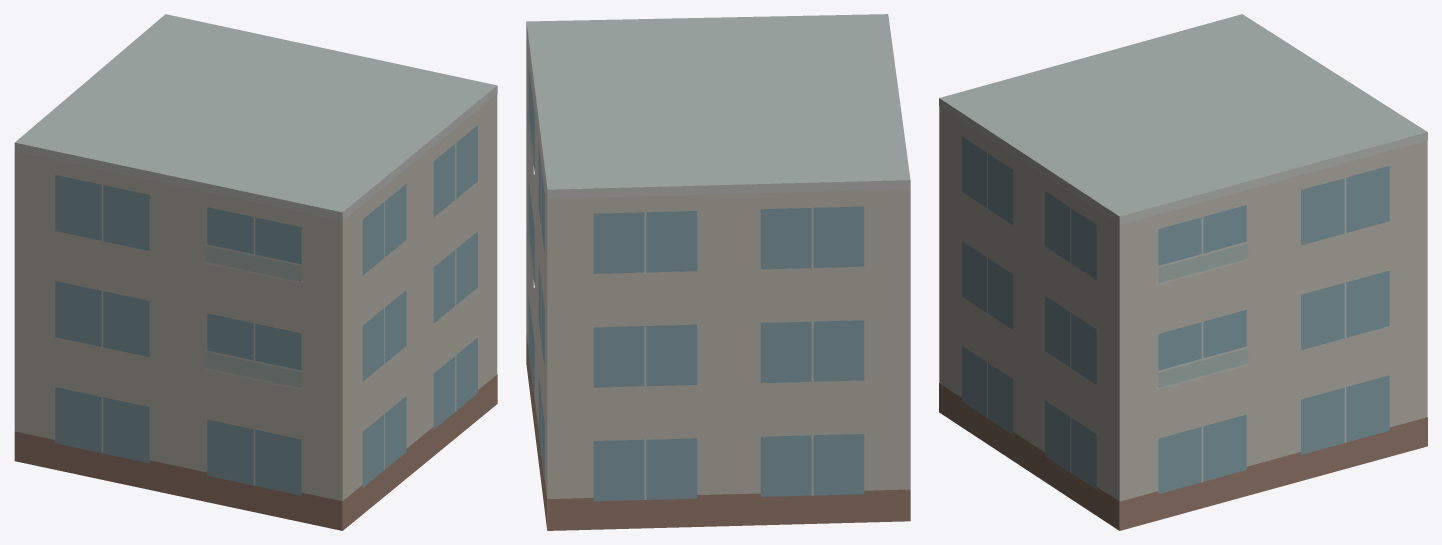
The model's file is survey-upis-33007579.glb.
3 renders of one model, left to right at view 1: azimuth 30°, elevation 25°; view 2: azimuth 150°, elevation 25°; view 3: azimuth 270°, elevation 25°, orthographic. The views are drawn at different scales.
Parts seen in each view (by area): view 1: survey-upis-33007579.tmp; view 2: survey-upis-33007579.tmp; view 3: survey-upis-33007579.tmp.
Boxes of the visible parts, box(x1,y1,x2,y2) form: survey-upis-33007579.tmp: box(14, 14, 497, 530); survey-upis-33007579.tmp: box(526, 14, 910, 530); survey-upis-33007579.tmp: box(939, 14, 1427, 530).
Size of the model in its own units: 12.66 by 9.15 by 12.9.
